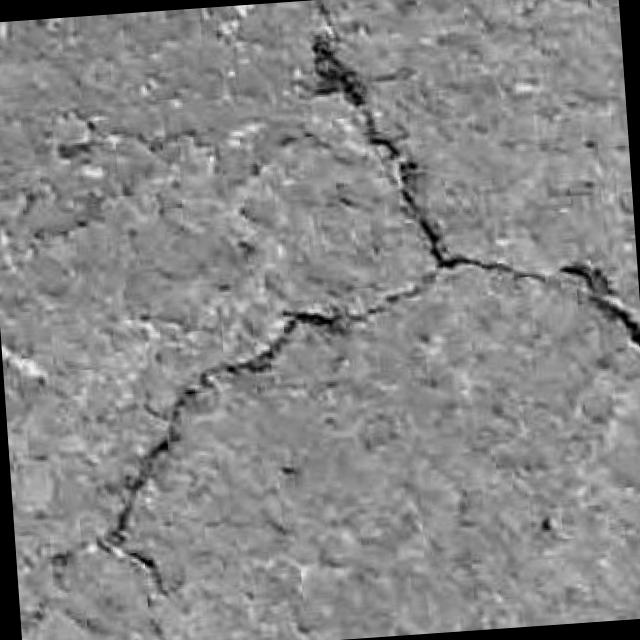crack: (91, 276, 434, 594), (311, 28, 546, 280), (560, 263, 639, 349)
